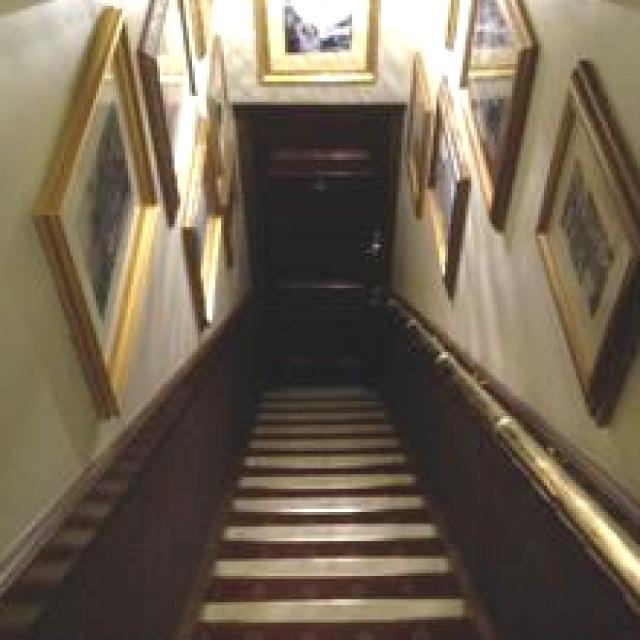downstair: (208, 394, 475, 612)
